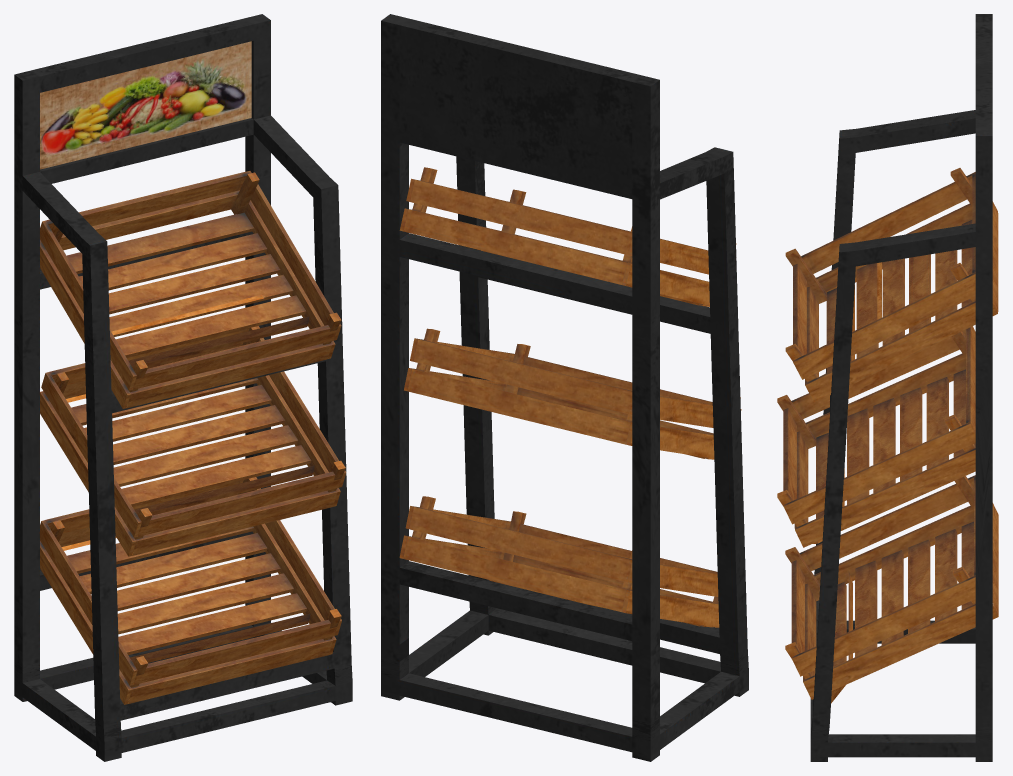
Rendered from Vegetable_Rack.fbx.
The picture shows the model from 3 angles, left to right: view 1: azimuth 30°, elevation 25°; view 2: azimuth 150°, elevation 25°; view 3: azimuth 270°, elevation 25°; orthographic projection. The views are drawn at different scales.
Parts seen in each view (by area): view 1: Vegetable_Rack; view 2: Vegetable_Rack; view 3: Vegetable_Rack.
Boxes of the visible parts, x1,y1,x2,y2 form: Vegetable_Rack: (14,14,352,761); Vegetable_Rack: (381,14,748,761); Vegetable_Rack: (777,14,998,761).
Size of the model in its own units: 0.7714 by 1.85 by 0.5921.
1 material, 1 textured.
